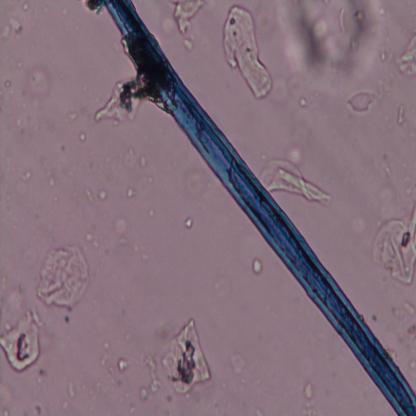Background material: (279, 0, 384, 88), (222, 3, 274, 104), (158, 314, 214, 394), (32, 240, 92, 313), (260, 157, 331, 211), (371, 200, 416, 283), (92, 73, 151, 126), (0, 301, 43, 372), (171, 0, 209, 52), (182, 170, 213, 204), (25, 65, 53, 102), (142, 350, 163, 394), (397, 33, 416, 81), (112, 210, 136, 244), (351, 88, 379, 116), (225, 348, 248, 378), (0, 15, 22, 37), (286, 148, 304, 167), (99, 340, 110, 370), (394, 101, 406, 126), (44, 168, 57, 189), (0, 71, 16, 88), (115, 354, 130, 372), (251, 258, 265, 276), (86, 232, 100, 249), (64, 107, 82, 120), (12, 114, 23, 135), (402, 302, 416, 318), (304, 383, 315, 402), (67, 380, 76, 402), (84, 186, 95, 204), (298, 95, 310, 110), (20, 169, 32, 184), (125, 186, 138, 199), (138, 387, 148, 401), (98, 188, 108, 202), (139, 153, 148, 168), (407, 356, 416, 371), (184, 216, 193, 231), (407, 323, 416, 337), (78, 130, 87, 141), (34, 405, 43, 415), (22, 1, 30, 12)
Cotton: (104, 0, 416, 416)
